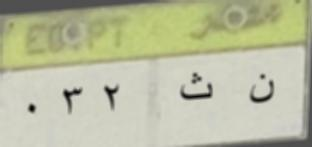0: (24, 97, 39, 119)
2: (102, 81, 122, 115)
3: (58, 84, 83, 118)
noon: (245, 70, 280, 111)
thaa: (176, 70, 216, 105)
